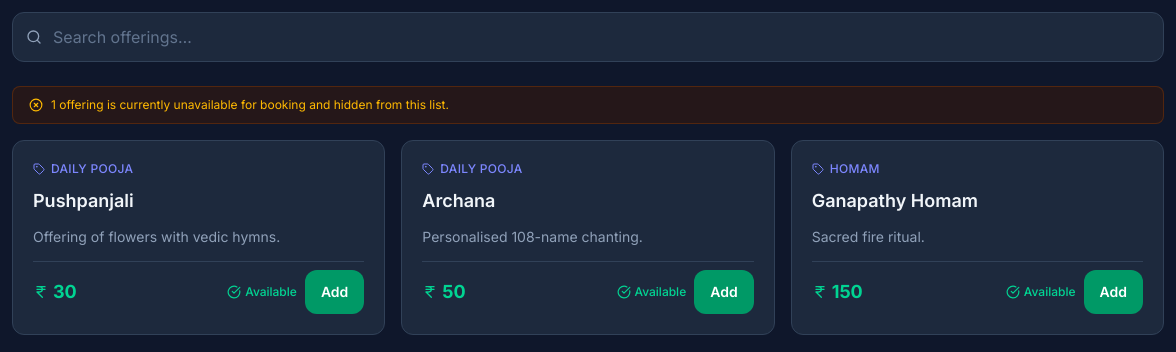
it: OfferingsList – Phase 1 › shows empty state message when search has no matches
The image size is (1176, 352).
Expected: the heading "Pushpanjali" is shown, [33,190,134,211]
Type "xyznotexist" into the search field labelled "Search offerings…" at point(588, 37), box [12,12,1164,62]
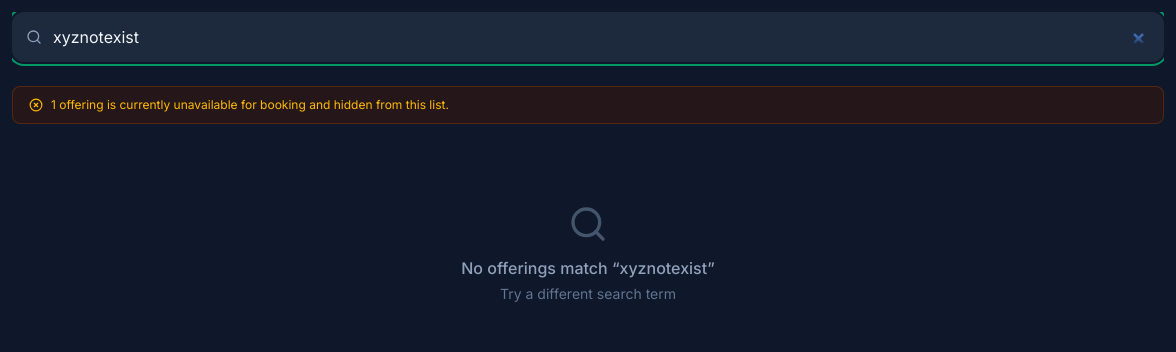
Expected: the text "No offerings match “xyznotexist”" is shown, [461,256,715,280]
